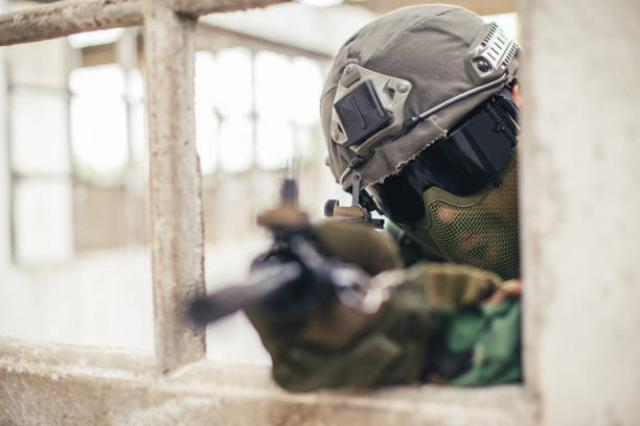other: (255, 4, 520, 382)
